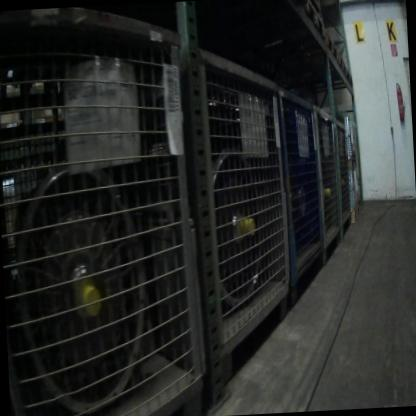pallet: (287, 0, 327, 42), (301, 65, 356, 90), (285, 52, 351, 69), (349, 200, 365, 232), (323, 28, 339, 60)
stillage: (0, 4, 205, 416), (96, 29, 299, 414), (277, 76, 325, 291), (313, 91, 342, 262), (330, 112, 353, 235)
